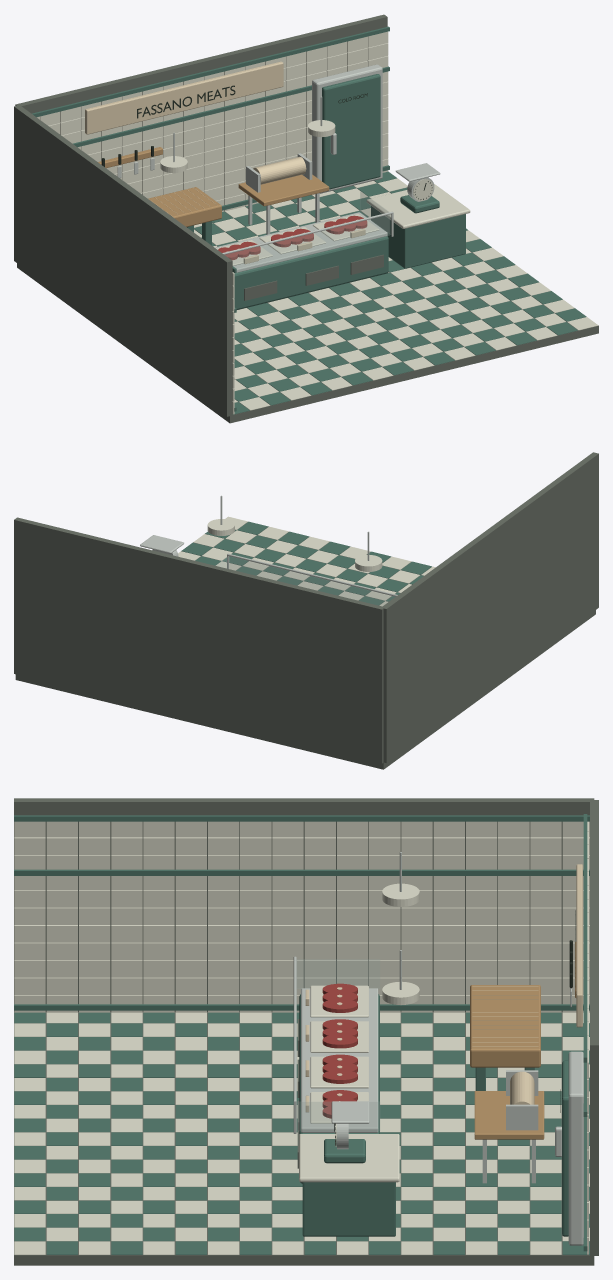
Rendered from interior-butcher.glb.
3 views of the same model, one above another, from view 1: azimuth 30°, elevation 25°; view 2: azimuth 150°, elevation 25°; view 3: azimuth 270°, elevation 25° (orthographic). The views are drawn at different scales.
Visible parts, largest first — view 1: left wall, quarry tile, quarry tile.001, rear glazed tile, rear tile border, shop foundation, shop sign board, rear wall, display bed, display front glass, endgrain chopping block, knife blade (+2 smaller); view 2: rear wall, left wall, quarry tile.001, quarry tile, shop foundation, display front glass, display bed; view 3: left glazed tile, quarry tile.001, quarry tile, left wall, shop foundation, left tile border, endgrain chopping block, display bed, rear wall, display front glass, cut of beef, knife blade (+4 smaller).
Boxes of the visible parts, x1=… form: left wall: x1=14, y1=106, x2=232, y2=416; quarry tile: x1=187, y1=171, x2=586, y2=414; quarry tile.001: x1=160, y1=120, x2=598, y2=410; rear glazed tile: x1=37, y1=31, x2=388, y2=211; rear tile border: x1=32, y1=26, x2=389, y2=210; shop foundation: x1=17, y1=181, x2=598, y2=423; shop sign board: x1=85, y1=61, x2=283, y2=134; rear wall: x1=15, y1=14, x2=387, y2=113; display bed: x1=173, y1=96, x2=440, y2=273; display front glass: x1=225, y1=191, x2=390, y2=272; endgrain chopping block: x1=148, y1=174, x2=329, y2=226; knife blade: x1=117, y1=64, x2=382, y2=193; rear wall: x1=14, y1=517, x2=383, y2=763; left wall: x1=381, y1=452, x2=598, y2=762; quarry tile.001: x1=178, y1=516, x2=435, y2=606; quarry tile: x1=181, y1=521, x2=431, y2=605; shop foundation: x1=15, y1=523, x2=595, y2=769; display front glass: x1=216, y1=556, x2=394, y2=605; display bed: x1=140, y1=495, x2=397, y2=596; left glazed tile: x1=14, y1=821, x2=589, y2=1012; quarry tile.001: x1=14, y1=883, x2=589, y2=1254; quarry tile: x1=14, y1=994, x2=589, y2=1254; left wall: x1=14, y1=798, x2=594, y2=1011; shop foundation: x1=14, y1=1012, x2=594, y2=1265; left tile border: x1=14, y1=815, x2=589, y2=1010; endgrain chopping block: x1=470, y1=985, x2=544, y2=1139; display bed: x1=293, y1=852, x2=538, y2=1183; rear wall: x1=590, y1=800, x2=598, y2=1255; display front glass: x1=296, y1=959, x2=379, y2=1130; cut of beef: x1=322, y1=983, x2=357, y2=1118; knife blade: x1=555, y1=988, x2=583, y2=1245.
Size of the model in its own units: 9.07 by 3.85 by 9.07.
